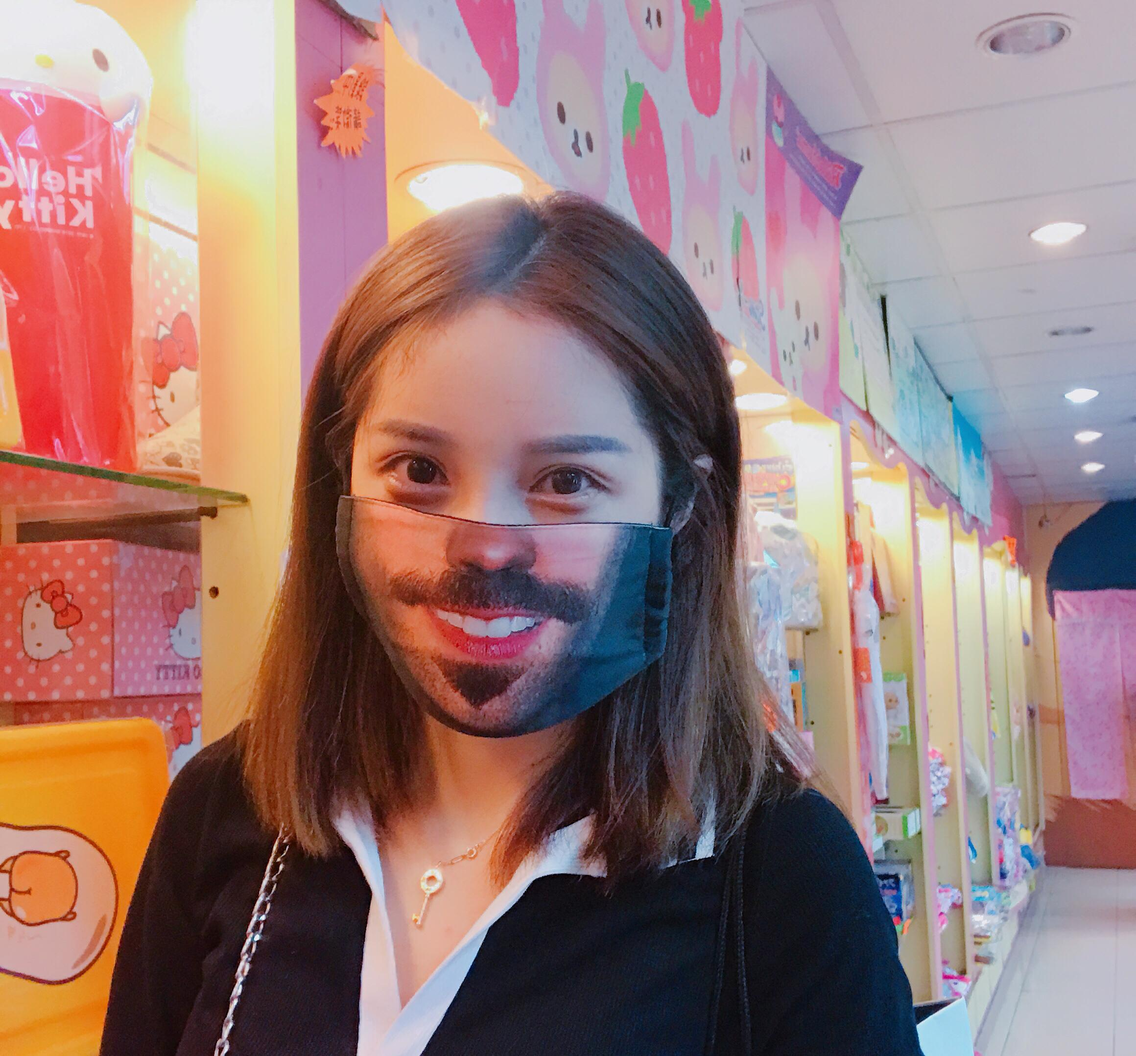OK: (355, 408, 677, 729)
